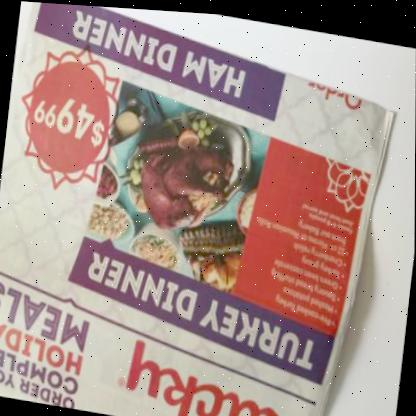Paper: (0, 2, 395, 416)
